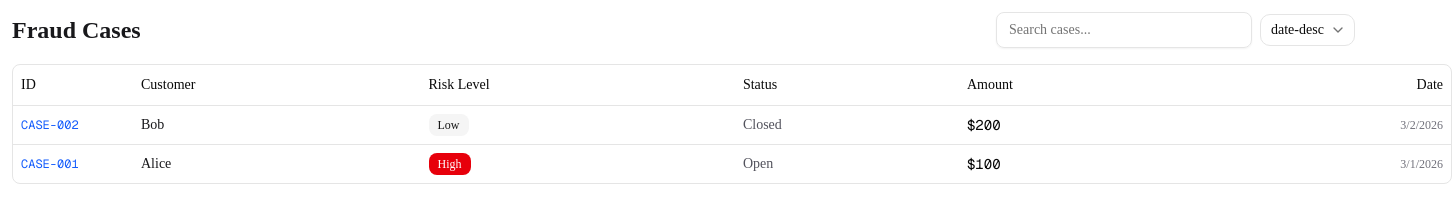
it: CaseList › filters cases by ID
The image size is (1452, 201).
Type "CASE-002" into the field with placeholder "Search cases...".
click(1124, 30); type("CASE-002")  # box [996, 12, 1252, 48]
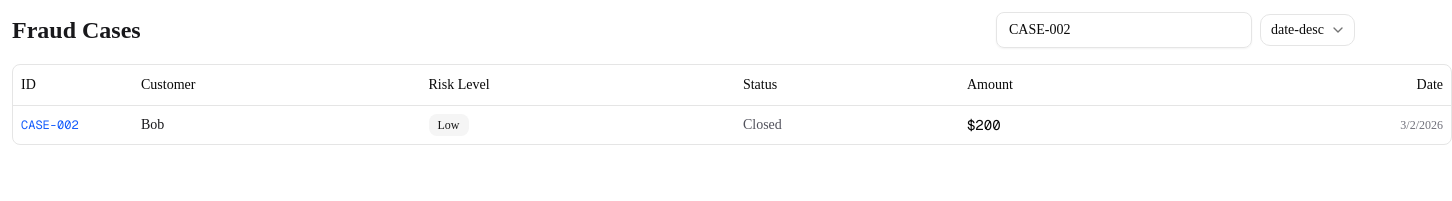
Expected: the text "Bob" is shown, [133, 105, 420, 144]
Now the text "Alice" is gone
